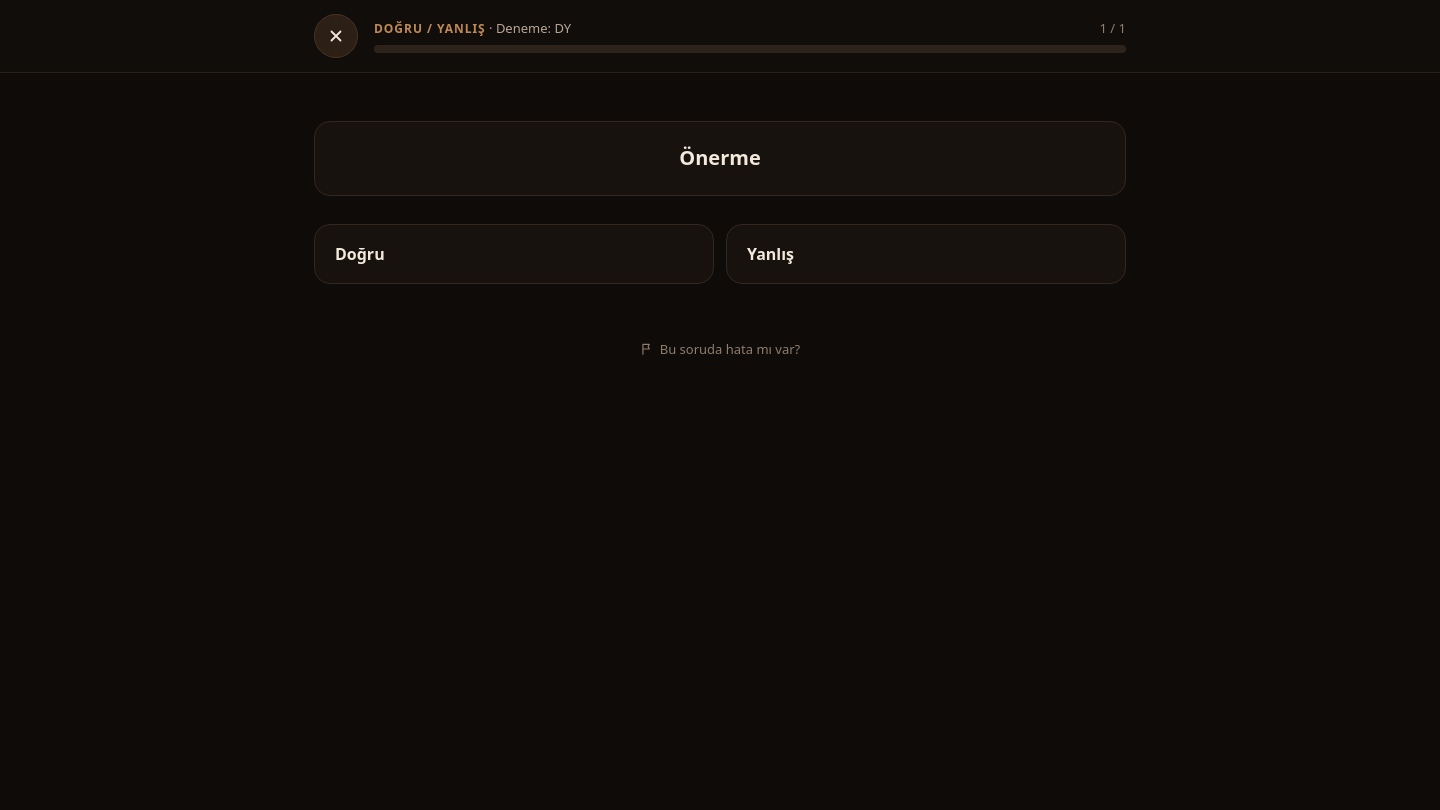
Test: Doğru / yanlış ve cümle kurma › doğru/yanlış sorusunu boolean cevaba göre değerlendirir
Click the 3rd button at (926, 254), box [726, 224, 1126, 284]
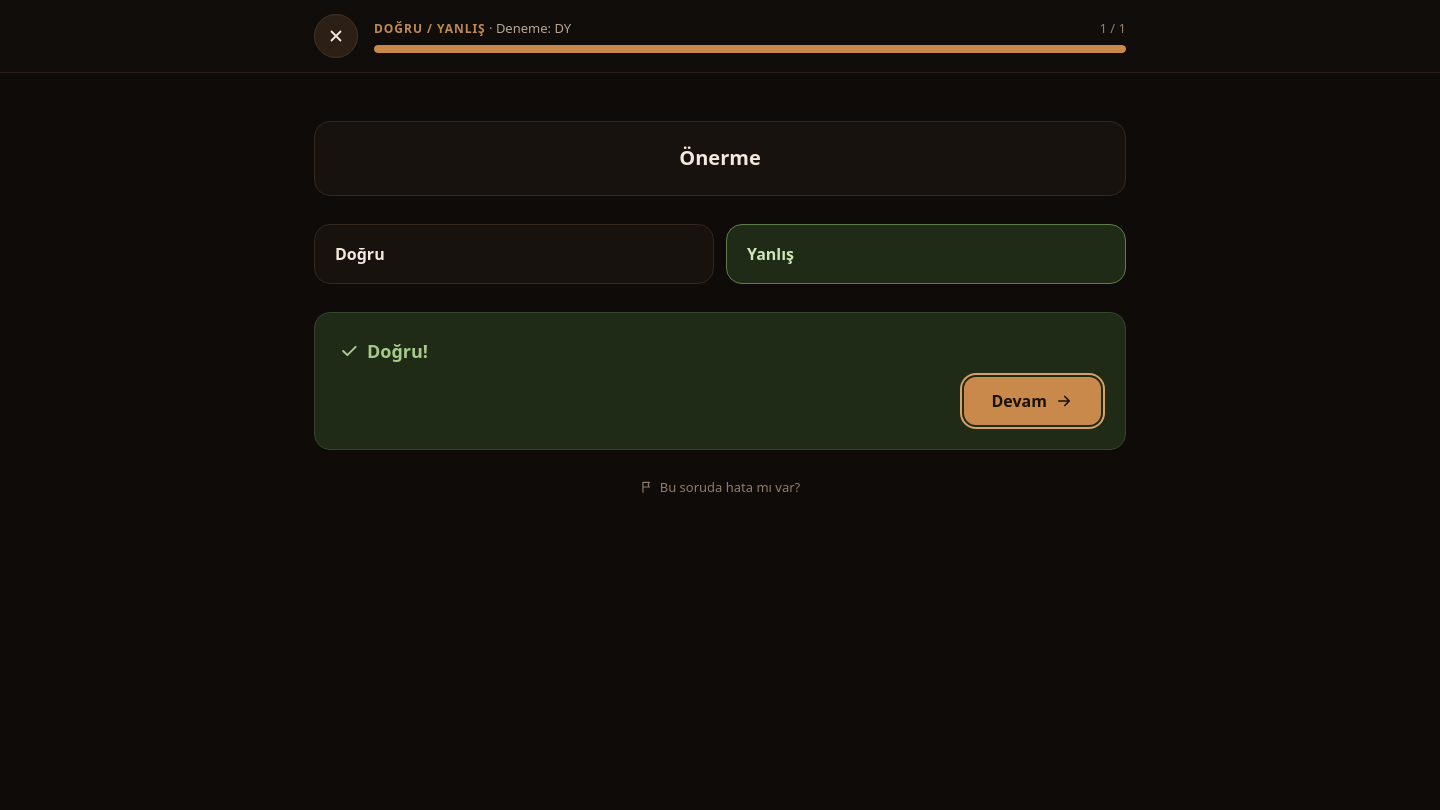
Expected: the text "Doğru!" is shown, [367, 338, 428, 362]
